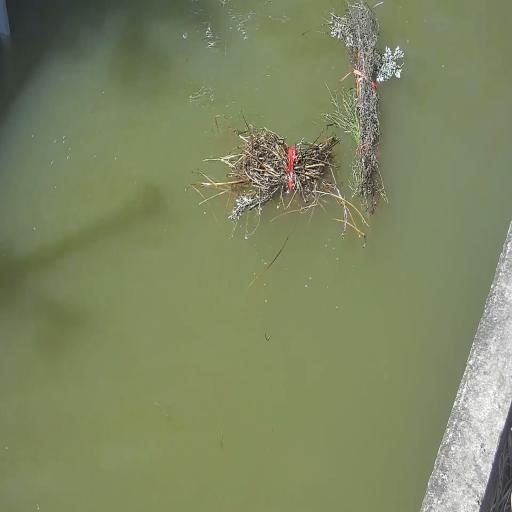twig: (330, 0, 408, 212), (220, 124, 340, 232)
